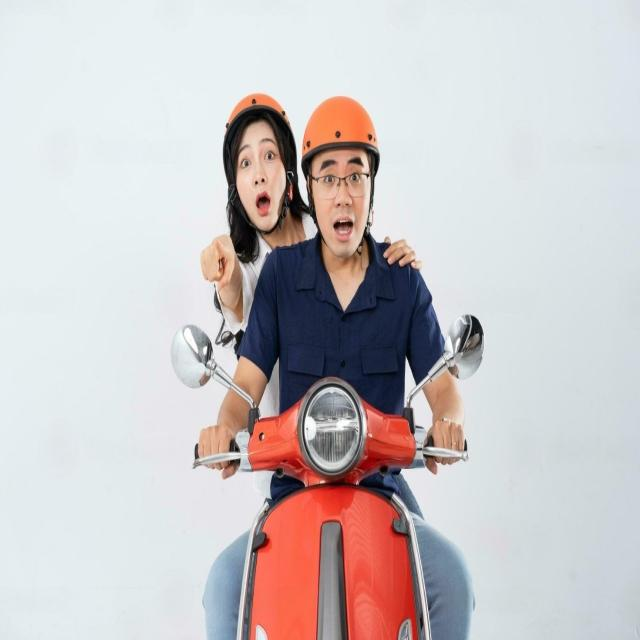1-2-helmet: (223, 93, 292, 179)
Bald: (301, 96, 380, 174)
